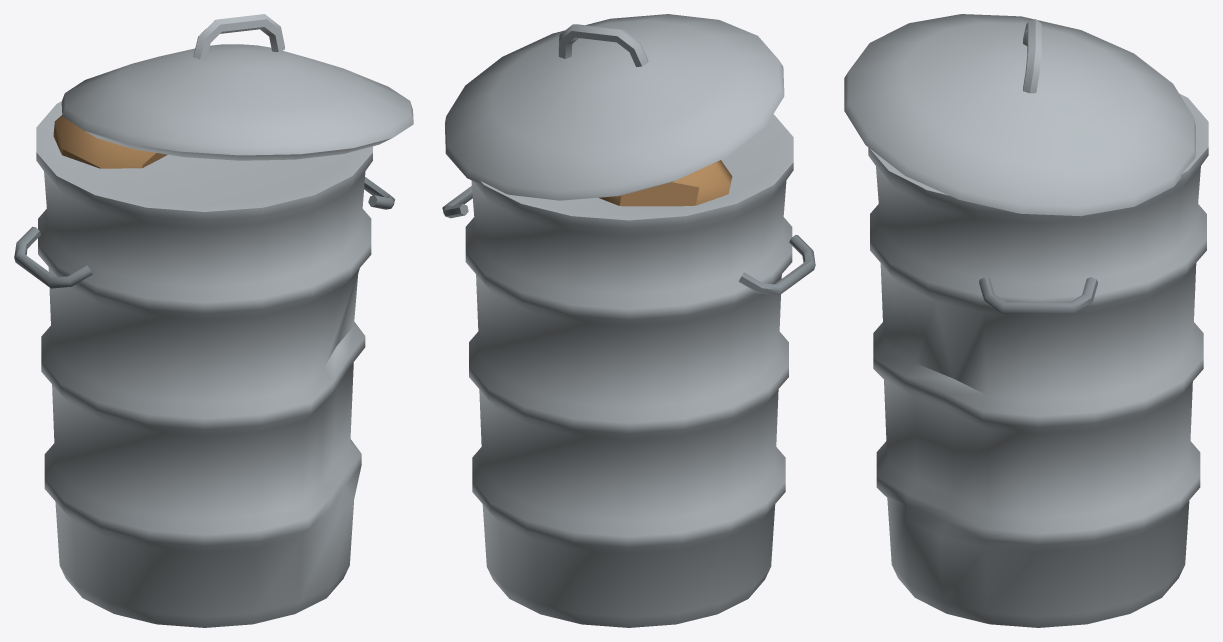
The model's file is Shop_TrashCan.fbx.
3 renders of one model, left to right at view 1: azimuth 30°, elevation 25°; view 2: azimuth 150°, elevation 25°; view 3: azimuth 270°, elevation 25°, orthographic. The views are drawn at different scales.
Visible parts, largest first — view 1: Body, Lid, Bag, Handles; view 2: Body, Lid, Bag, Handles; view 3: Body, Lid, Handles.
Boxes of the visible parts, bbox=[...] form: Body: bbox=[36, 101, 372, 627]; Lid: bbox=[61, 14, 413, 160]; Bag: bbox=[53, 115, 167, 168]; Handles: bbox=[14, 177, 394, 288]; Body: bbox=[465, 114, 793, 627]; Lid: bbox=[445, 14, 784, 200]; Bag: bbox=[598, 160, 732, 206]; Handles: bbox=[442, 186, 815, 295]; Body: bbox=[868, 93, 1208, 627]; Lid: bbox=[844, 14, 1195, 216]; Handles: bbox=[979, 277, 1097, 313].
Bounding box in the file's own units: 265 × 396 × 236.
